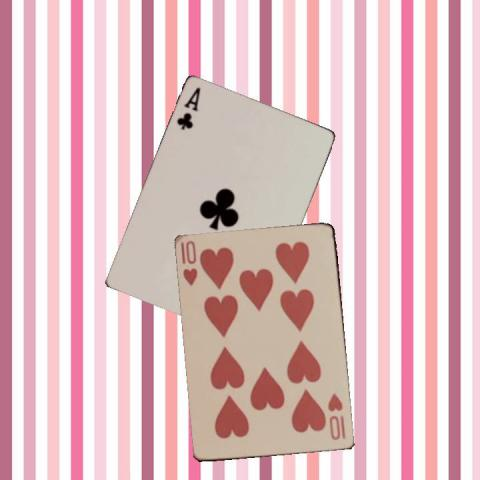10h: (325, 391, 347, 441), (178, 238, 199, 287)
Ac: (174, 85, 202, 132)
